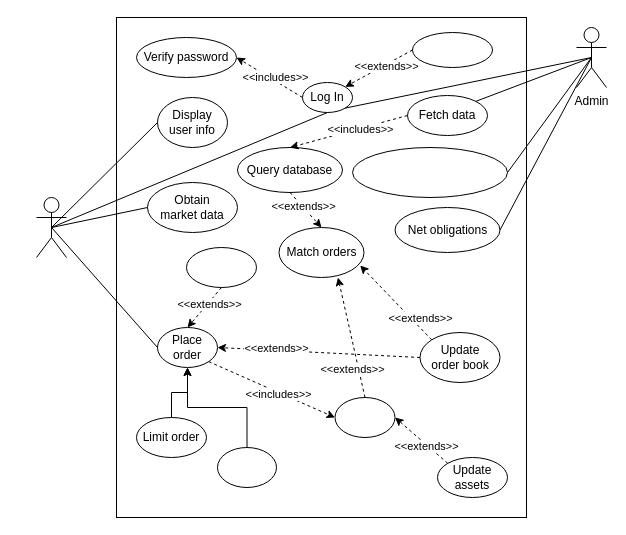
This 626x535 diagram has some shape labels left out. The shapes that lost their labels are listed below. From the top down, each one's centre as x and y in pixels, then its label:
the point at 452,50: Display error
the point at 430,172: Organize nodes & edges
the point at 51,227: Client/Trader
the point at 221,267: Freeze assets
the point at 364,417: Order Status
the point at 246,467: Market order
